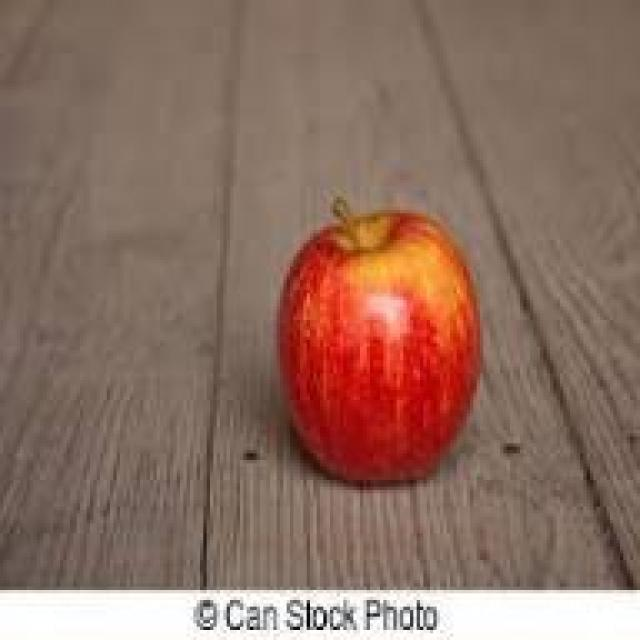apple: (273, 223, 480, 487)
